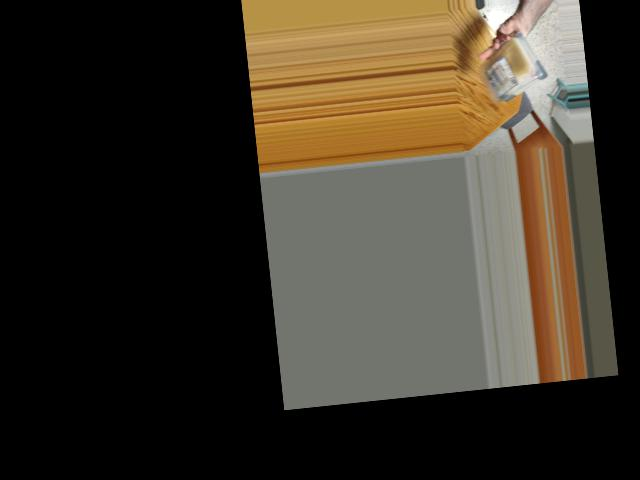cheese: (483, 31, 546, 108)
